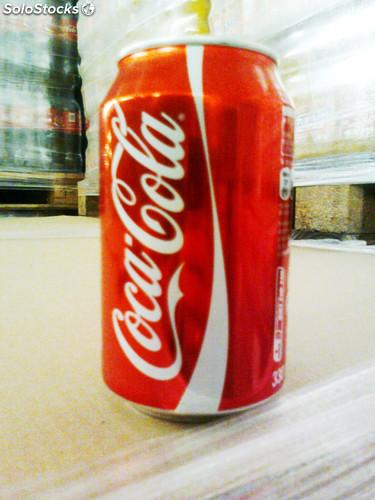metal: (99, 41, 294, 416)
